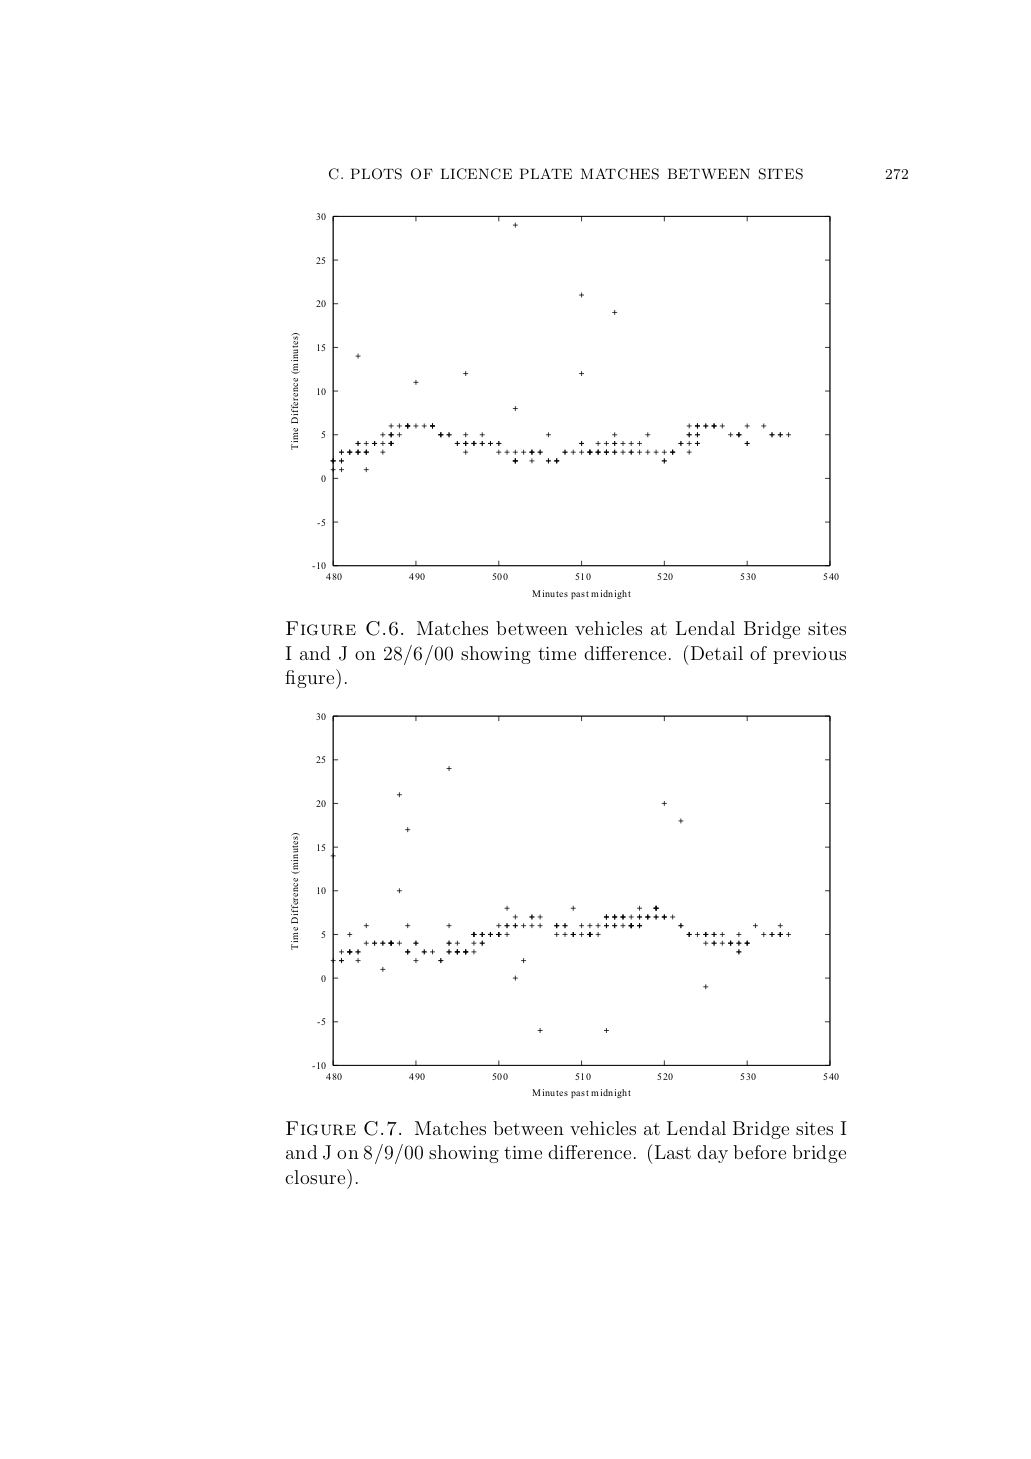figure: (291, 213, 838, 599), (291, 713, 838, 1098)
